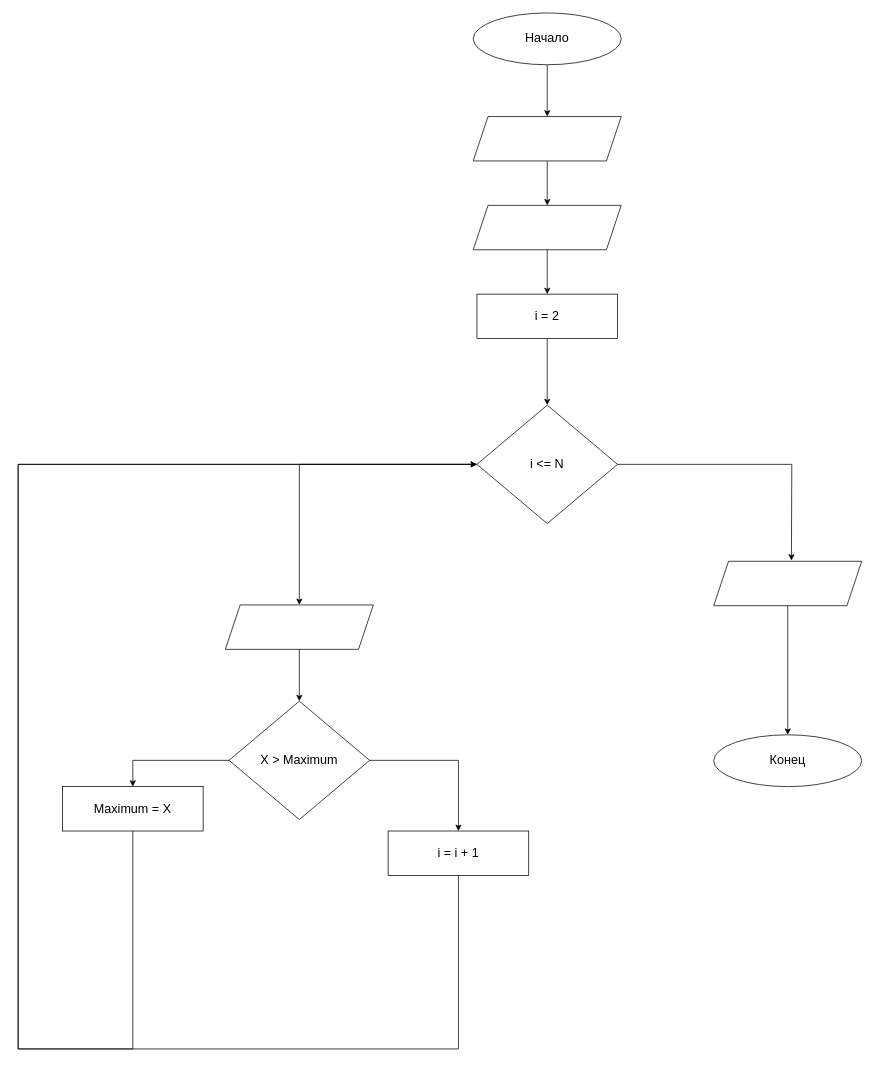
Image size: 875x1068. Some labels were removed from this diagram. The shapes that lost their labels are listed below. From the top down, each one's centre as x and y in pixels, then its label:
At (x=546, y=138): "N = int(input())".
At (x=546, y=227): "Maximum = int(input())".
At (x=787, y=583): "Вывод Maximum".
At (x=299, y=626): "X = int(input())".
